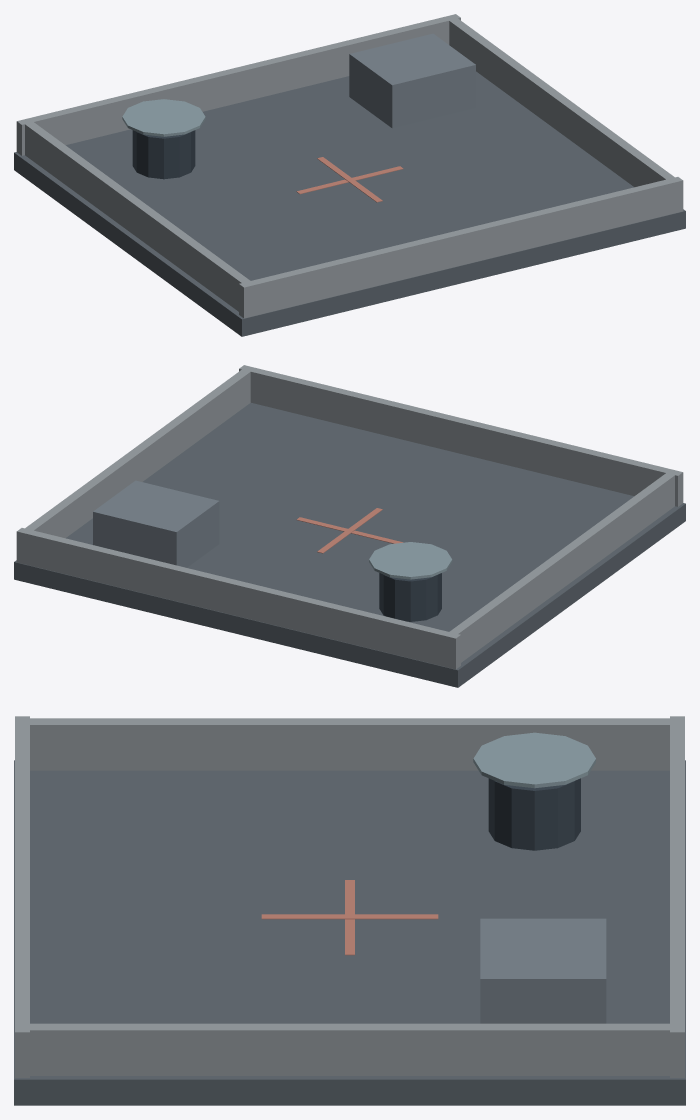
The model's file is escenario_rooftop.glb.
3 renders of one model, top to bottom at view 1: azimuth 30°, elevation 25°; view 2: azimuth 150°, elevation 25°; view 3: azimuth 270°, elevation 25°, orthographic. The views are drawn at different scales.
Bounding box in the file's own units: 9 × 1.29 × 8.
